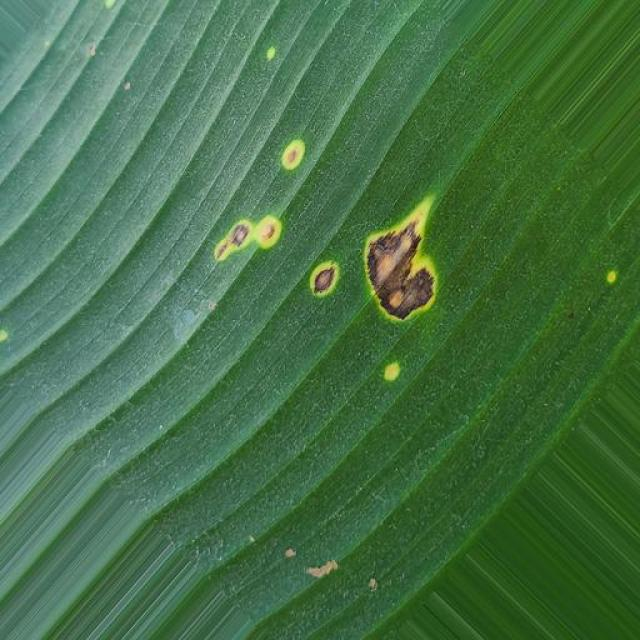Early_rust: (134, 100, 511, 376)
